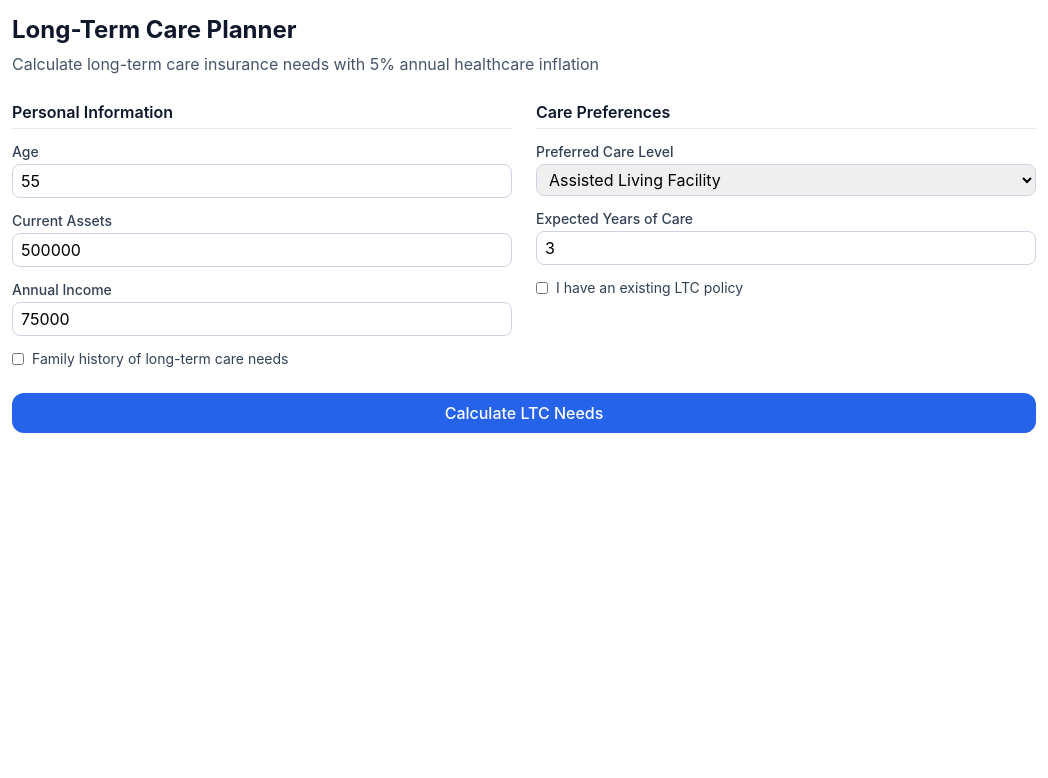
Test: Long-Term Care Planner › displays self-insurance status
Click the button "Calculate LTC Needs". click: click(524, 413)
box: x1=12 y1=393 x2=1036 y2=433
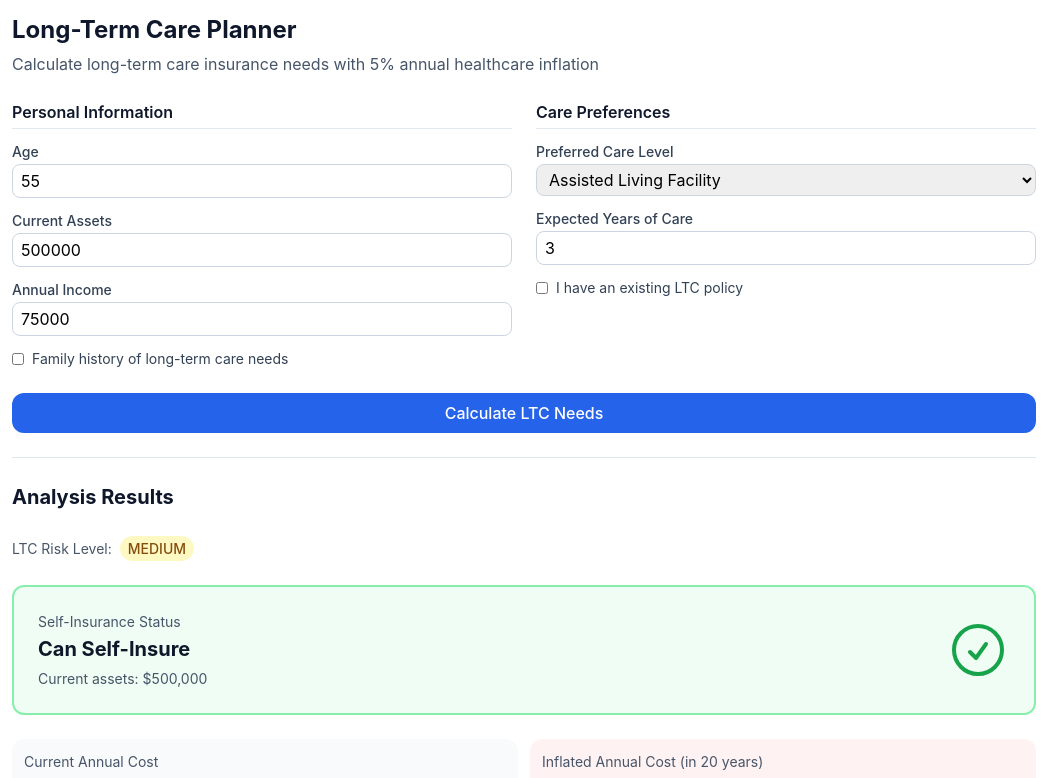
Expected: the text "Self-Insurance Status" is shown, x1=38 y1=613 x2=181 y2=630
